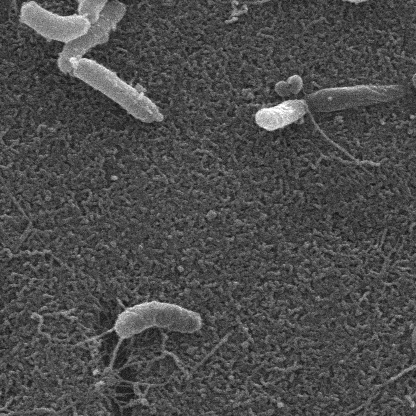cell2surface: (309, 118, 376, 179), (158, 329, 191, 373), (373, 359, 416, 392), (231, 0, 287, 16), (77, 327, 118, 348)
curved: (115, 302, 200, 338), (22, 2, 91, 42), (82, 0, 144, 21)
filament: (412, 256, 416, 375), (413, 0, 416, 92)
regular: (72, 60, 162, 124), (60, 1, 126, 74), (310, 84, 406, 115), (253, 98, 306, 132), (340, 0, 390, 2)
